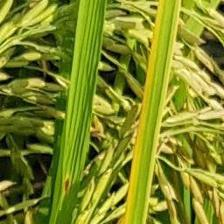2 BacterialBlight: (130, 4, 176, 216)
